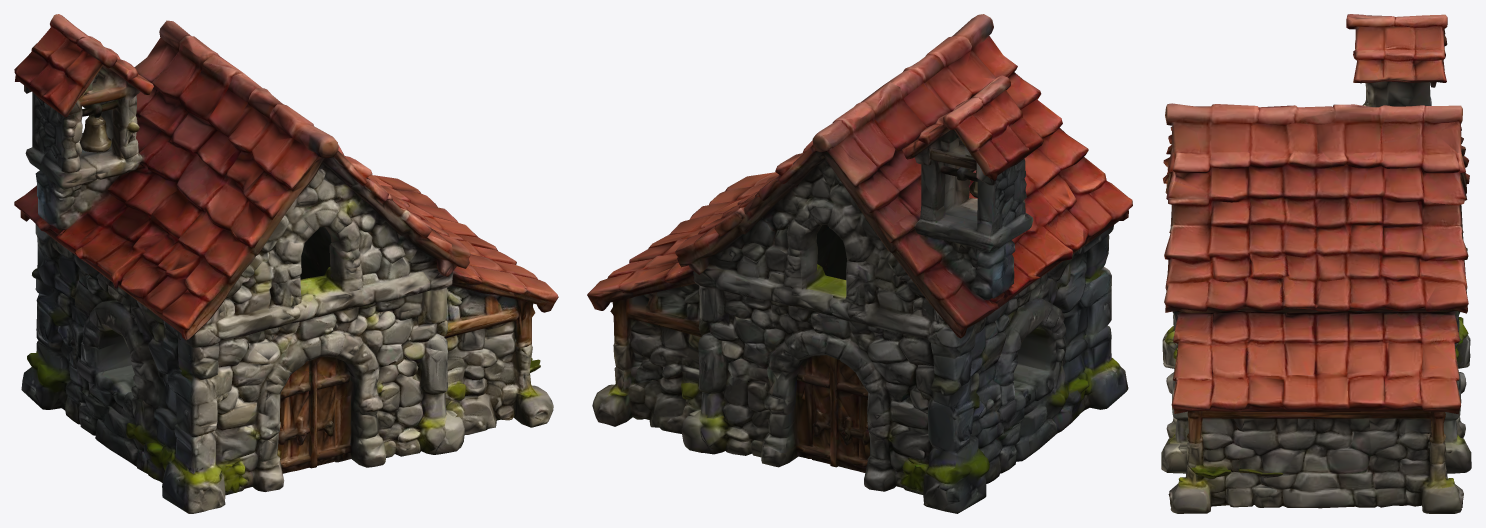
Rendered from abbey.glb.
3 views of the same model, side by side, from view 1: azimuth 30°, elevation 25°; view 2: azimuth 150°, elevation 25°; view 3: azimuth 270°, elevation 25° (orthographic). The views are drawn at different scales.
Parts seen in each view (by area): view 1: tripo_node_96b42e86-8740-4440-82cb-aecf04b31f08; view 2: tripo_node_96b42e86-8740-4440-82cb-aecf04b31f08; view 3: tripo_node_96b42e86-8740-4440-82cb-aecf04b31f08.
Boxes of the visible parts, left/top/right/bottom form: tripo_node_96b42e86-8740-4440-82cb-aecf04b31f08: left=14, top=14, right=558, bottom=513; tripo_node_96b42e86-8740-4440-82cb-aecf04b31f08: left=587, top=14, right=1132, bottom=513; tripo_node_96b42e86-8740-4440-82cb-aecf04b31f08: left=1161, top=14, right=1471, bottom=513.
Size of the model in its own units: 0.9805 by 0.8897 by 0.7212.
1 material, 1 textured.
